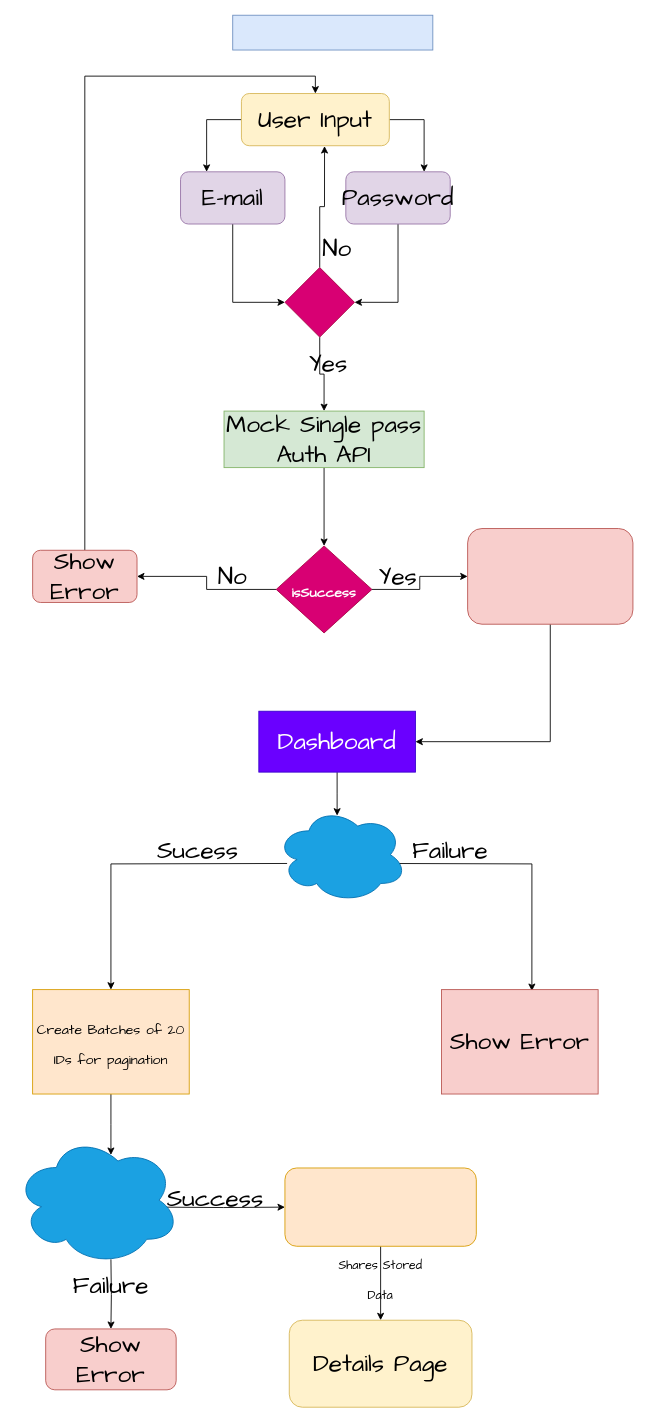
The diagram is 648 pixels wide and 1422 high, and some of its shapes have lost their labels. The centre of each missing label's shape, as x and y in pixels:
"Application Flow" belongs at [332,32].
"Batc Batch API calls calls" belongs at [97,1199].
"Fetch IDs API" belongs at [341,854].
"isValid" belongs at [319,302].
"List Item Representation" belongs at [380,1206].
"Navigate to dashboard" belongs at [550,576].
